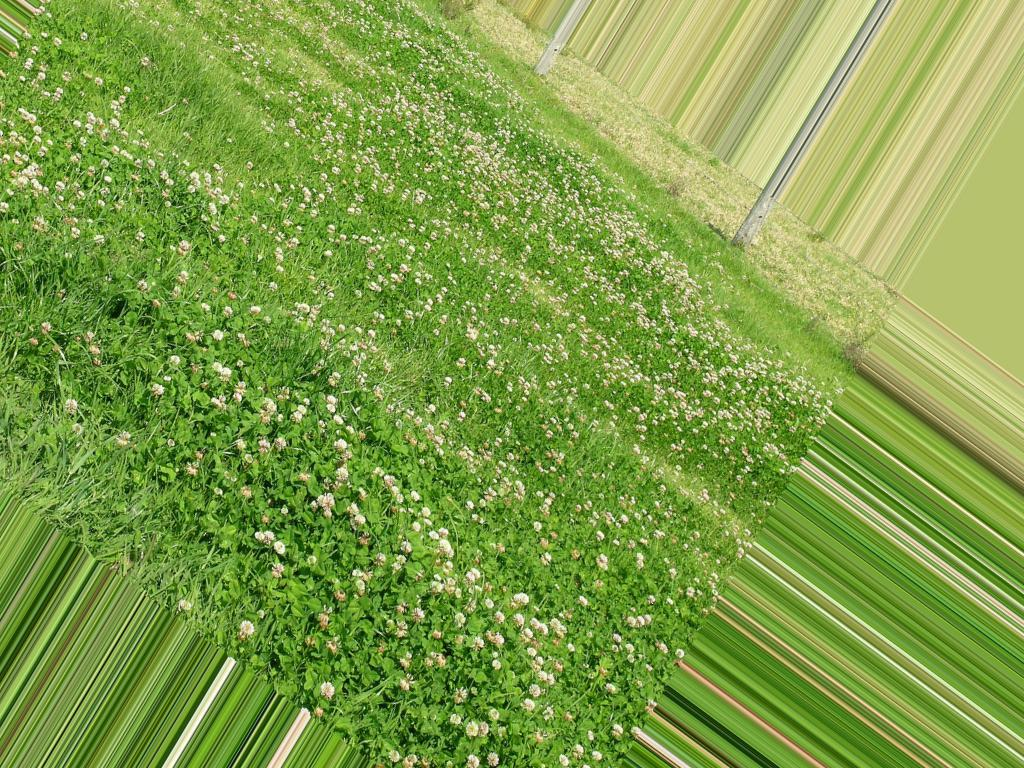patch: (637, 135, 751, 234), (741, 226, 833, 306), (477, 3, 554, 89), (554, 58, 630, 134), (621, 97, 708, 162), (827, 242, 884, 314), (829, 281, 893, 338), (755, 187, 809, 241), (604, 115, 654, 168), (527, 56, 585, 95), (547, 41, 597, 82), (801, 294, 849, 332)
